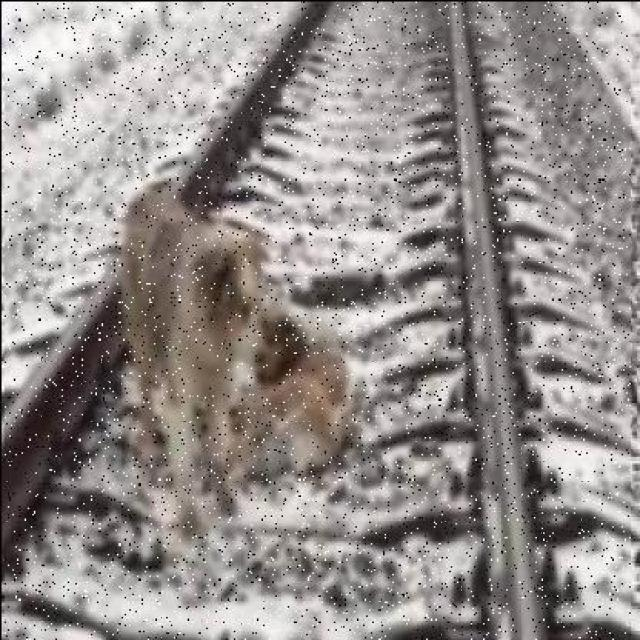danger: (89, 170, 362, 544)
rail: (4, 1, 629, 638)
